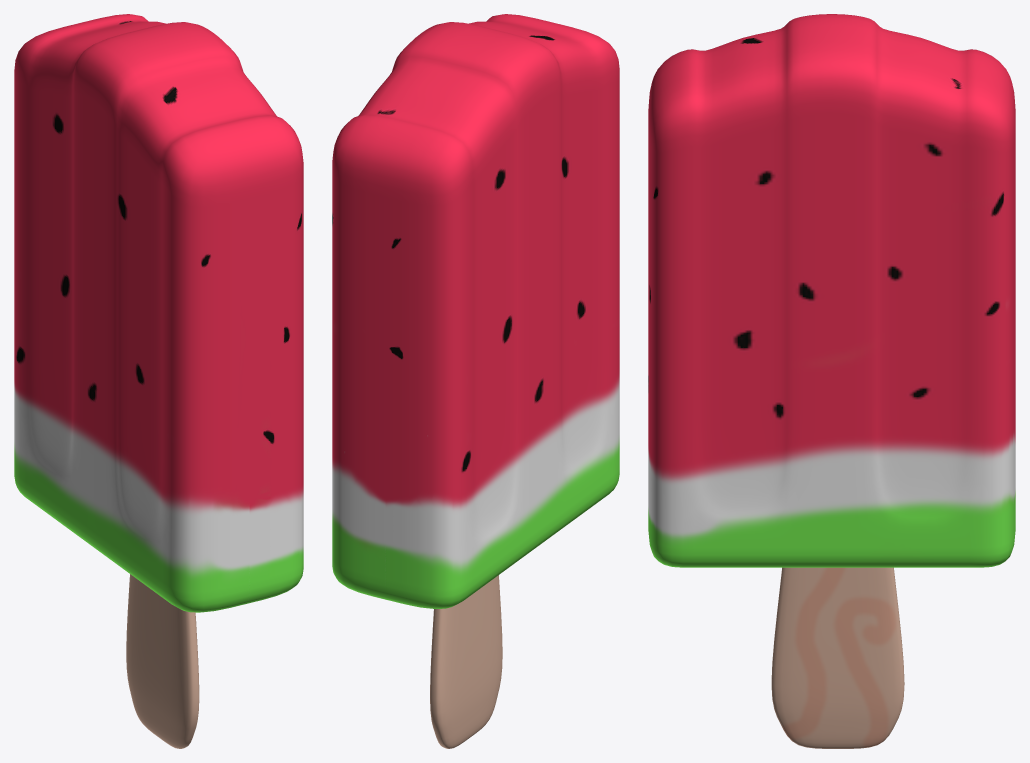
File: melonpop.glb
3 views of the same model, side by side, from view 1: azimuth 30°, elevation 25°; view 2: azimuth 150°, elevation 25°; view 3: azimuth 270°, elevation 25° (orthographic).
Parts seen in each view (by area): view 1: MelonPop; view 2: MelonPop; view 3: MelonPop.
Boxes of the visible parts, box(x1,y1,x2,y2) form: MelonPop: box(14, 14, 303, 748); MelonPop: box(332, 14, 619, 748); MelonPop: box(648, 14, 1015, 748).
Size of the model in its own units: 86.13 by 445 by 208.
1 material, 1 textured.
